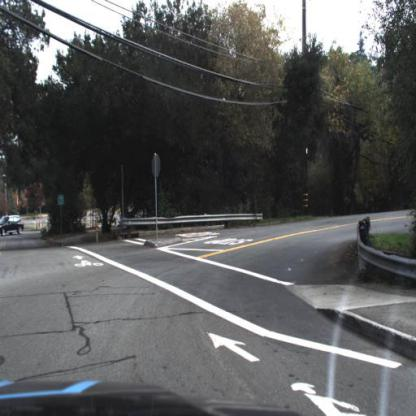car: (1, 216, 26, 238)
